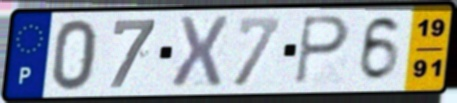0: (48, 17, 101, 93)
6: (356, 14, 403, 84)
7: (107, 18, 159, 90), (236, 14, 284, 89)
P: (293, 14, 352, 87)
X: (168, 14, 231, 92)
